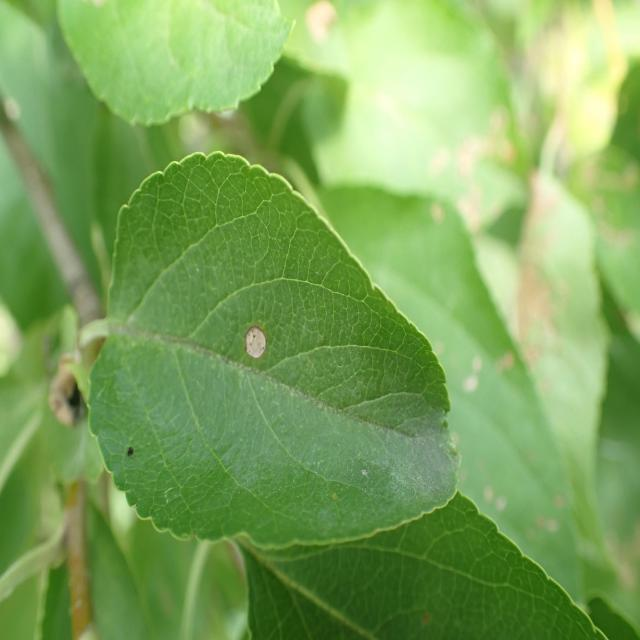Black Rot: (236, 309, 270, 385)
